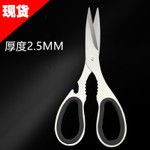scissor: (54, 5, 128, 148)
